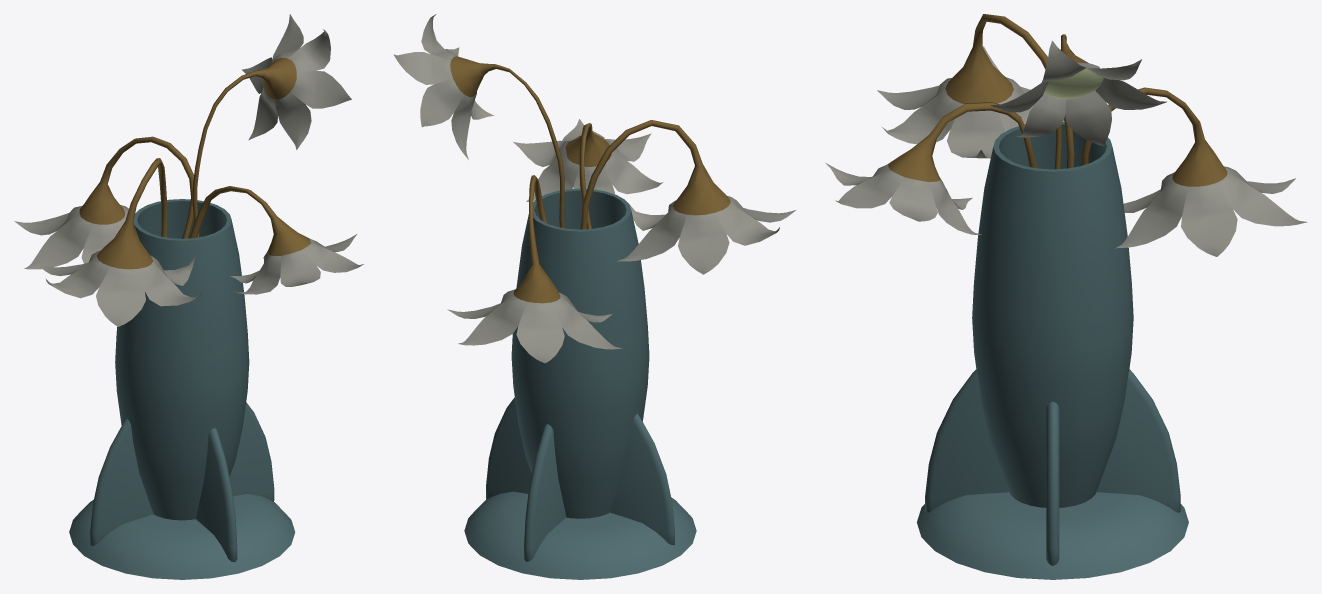
File: FI_080_big_dry_flower_pot.glb
3 views of the same model, side by side, from view 1: azimuth 30°, elevation 25°; view 2: azimuth 150°, elevation 25°; view 3: azimuth 270°, elevation 25° (orthographic). The views are drawn at different scales.
Parts seen in each view (by area): view 1: big_dry_flower_pot; view 2: big_dry_flower_pot; view 3: big_dry_flower_pot.
Boxes of the visible parts, x1,y1,x2,y2 form: big_dry_flower_pot: (14, 14, 363, 579); big_dry_flower_pot: (393, 14, 795, 579); big_dry_flower_pot: (826, 14, 1307, 579).
Bounding box in the file's own units: 1.35 × 1.94 × 1.5.
